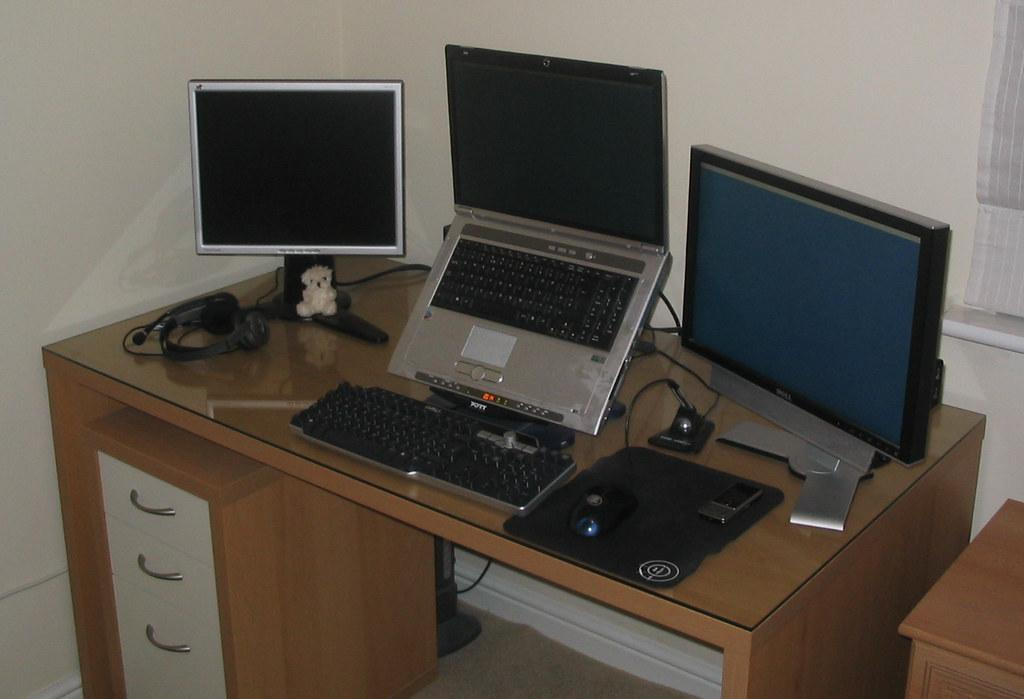computer: (387, 42, 673, 437), (680, 142, 953, 531), (187, 78, 406, 324)
